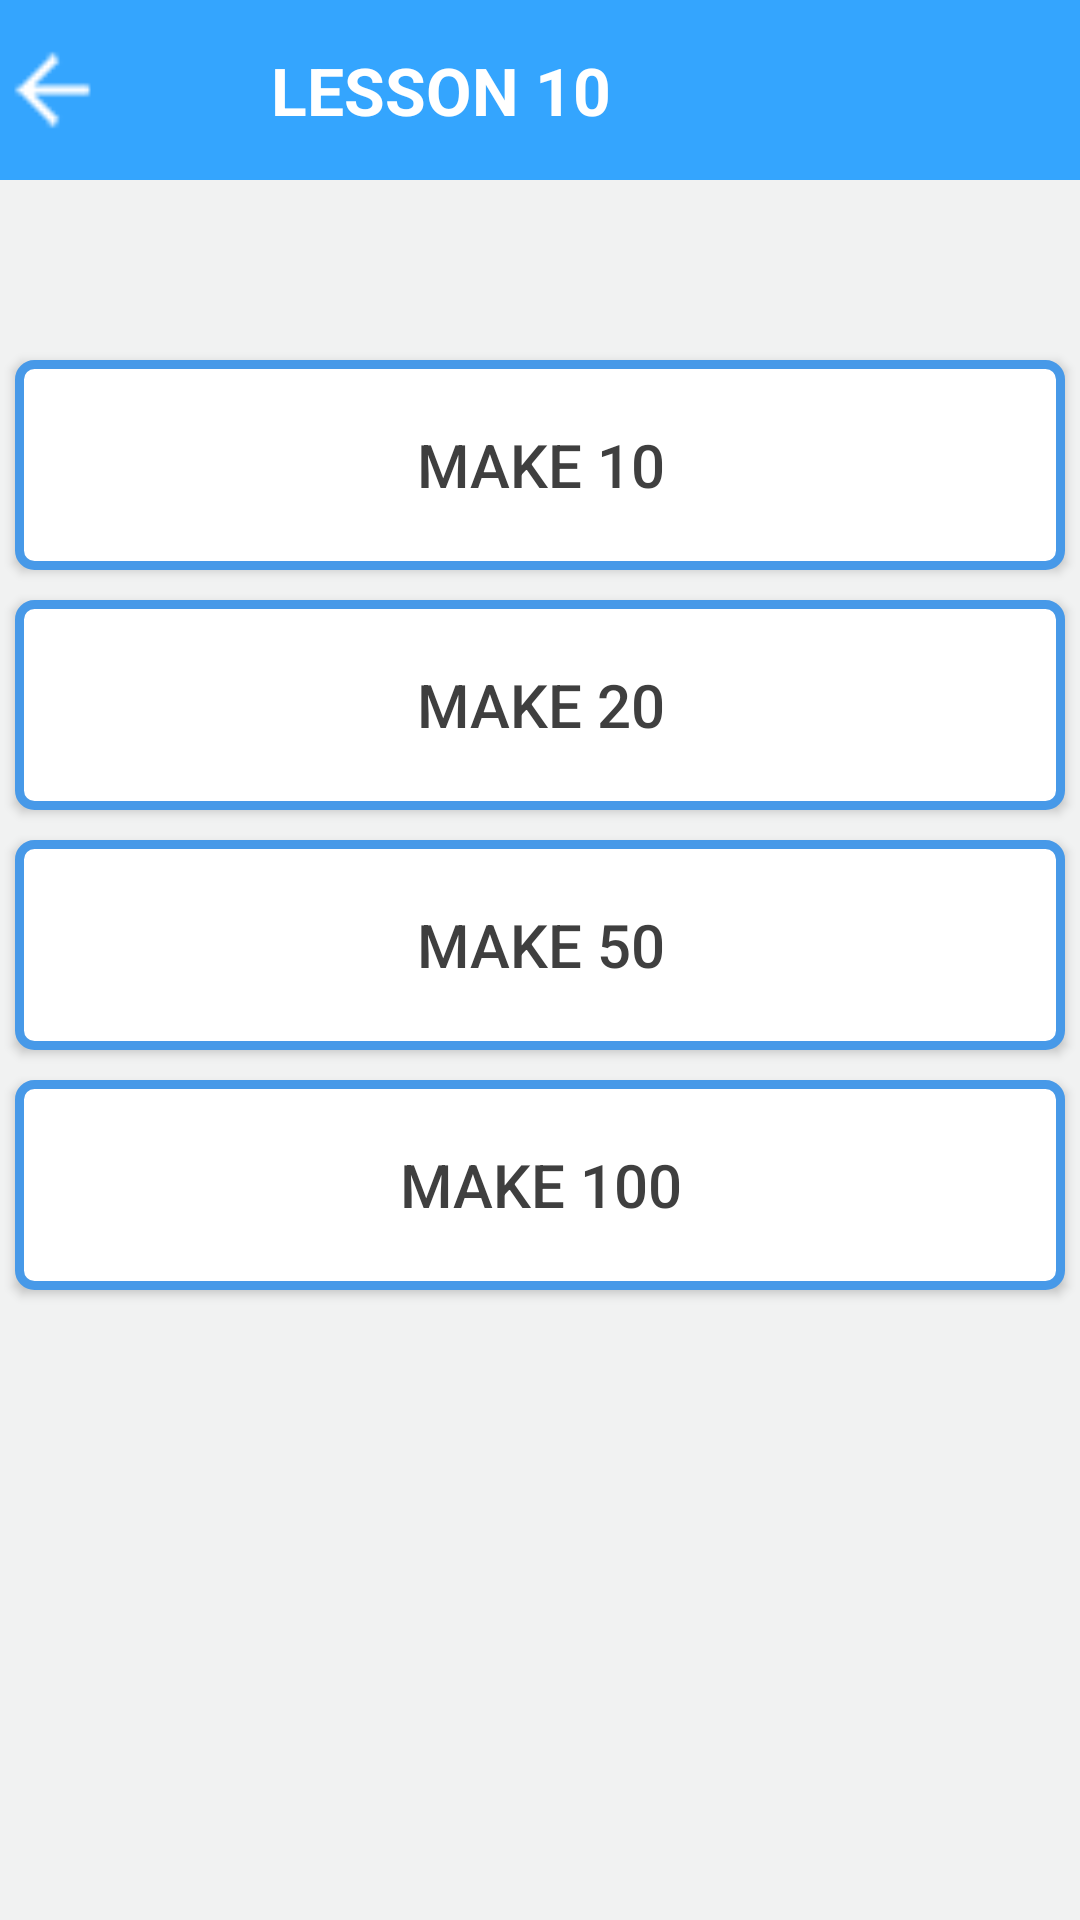

Icon click points for this 1080 × 1920 phone screenshot, format (x,y):
keyboard backspace: (53,90)
